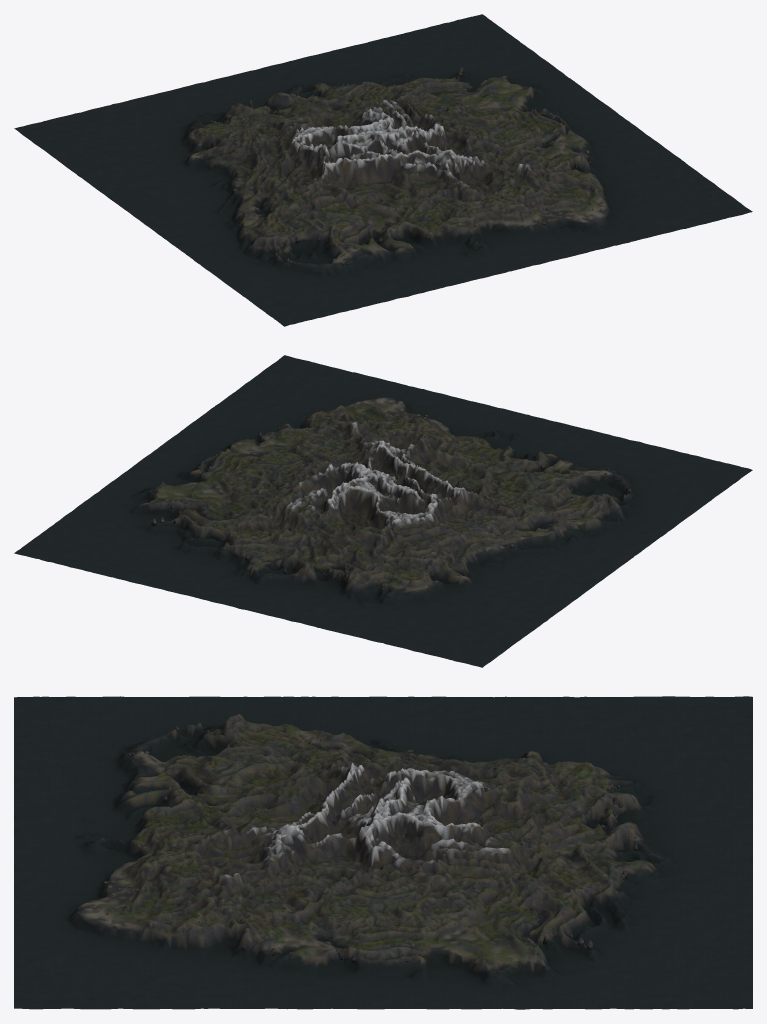
File: island_a.glb
3 views of the same model, one above another, from view 1: azimuth 30°, elevation 25°; view 2: azimuth 150°, elevation 25°; view 3: azimuth 270°, elevation 25° (orthographic). The views are drawn at different scales.
Visible parts, largest first — view 1: island_a_land, island_a_rocks; view 2: island_a_land, island_a_rocks; view 3: island_a_land, island_a_rocks.
Part boxes in pixels (bbox=[...]): island_a_land: bbox=[14, 14, 752, 326]; island_a_rocks: bbox=[205, 66, 607, 265]; island_a_land: bbox=[14, 355, 752, 667]; island_a_rocks: bbox=[151, 401, 631, 590]; island_a_land: bbox=[14, 696, 752, 1009]; island_a_rocks: bbox=[100, 726, 638, 962].
Bounding box in the file's own units: 9259 × 757 × 9258.
1 material, 1 textured.
